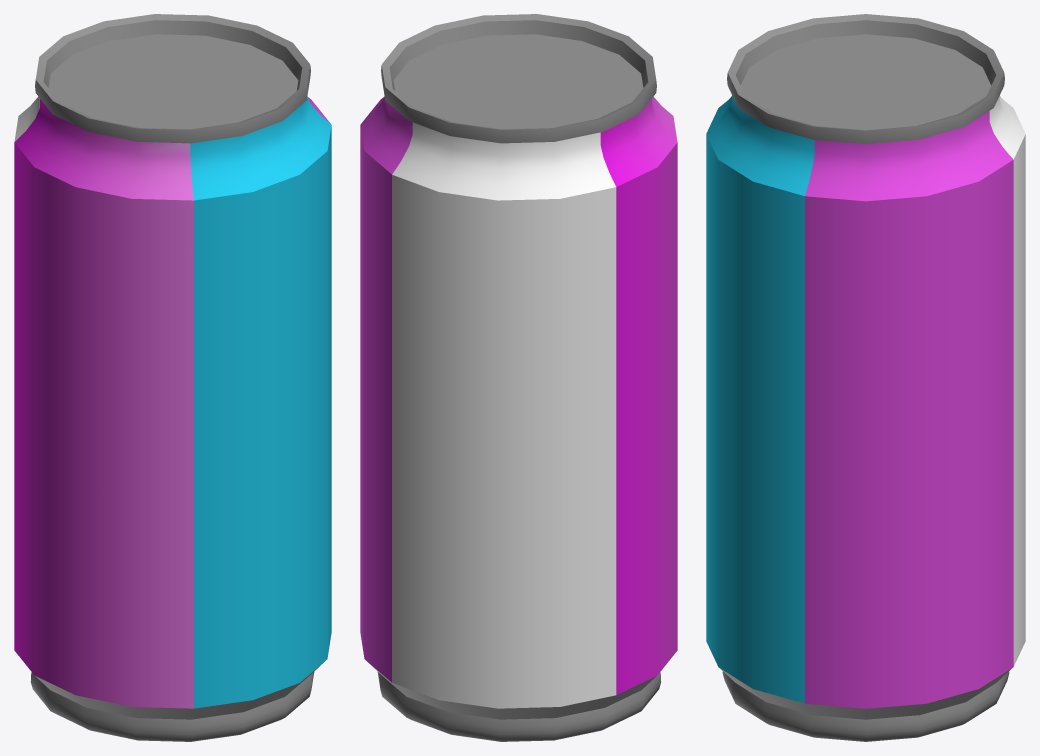
File: can.glb
3 renders of one model, left to right at view 1: azimuth 30°, elevation 25°; view 2: azimuth 150°, elevation 25°; view 3: azimuth 270°, elevation 25°, orthographic.
Parts seen in each view (by area): view 1: can; view 2: can; view 3: can.
Boxes of the visible parts, x1,y1,x2,y2 form: can: (14,14,331,741); can: (360,14,677,741); can: (706,14,1025,741).
Bounding box in the file's own units: 0.1311 × 0.2771 × 0.1311.
1 material, 1 textured.
